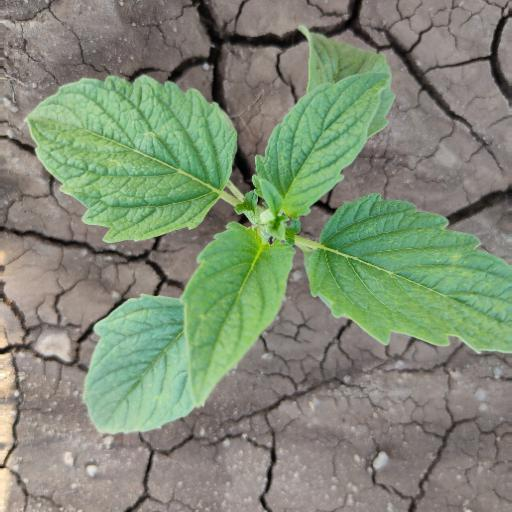weed: (29, 14, 511, 497)
